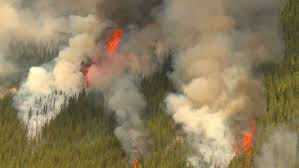fire: (93, 25, 134, 59), (232, 117, 261, 156)
